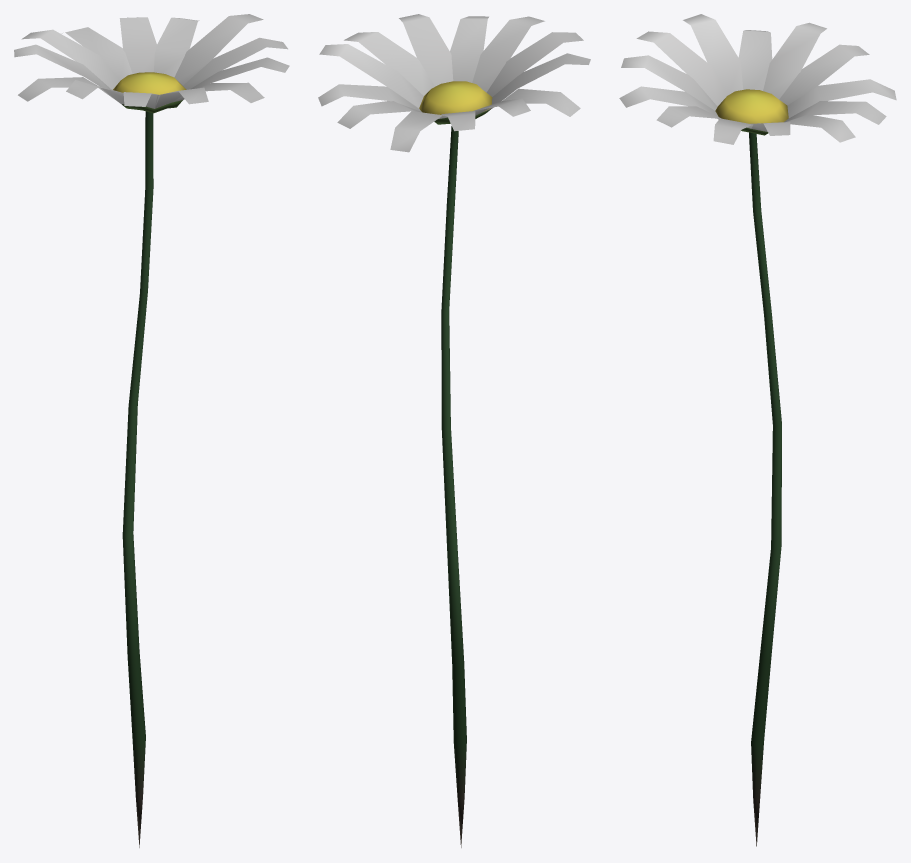
The picture shows the model from 3 angles, left to right: view 1: azimuth 30°, elevation 25°; view 2: azimuth 150°, elevation 25°; view 3: azimuth 270°, elevation 25°; orthographic projection. The views are drawn at different scales.
Visible parts, largest first — view 1: alt12.006; view 2: alt12.006; view 3: alt12.006.
Part boxes in pixels (left/top/right/bottom): alt12.006: left=14, top=14, right=289, bottom=847; alt12.006: left=318, top=14, right=590, bottom=847; alt12.006: left=619, top=14, right=896, bottom=846.
Bounding box in the file's own units: 0.1617 × 0.5 × 0.1595.
